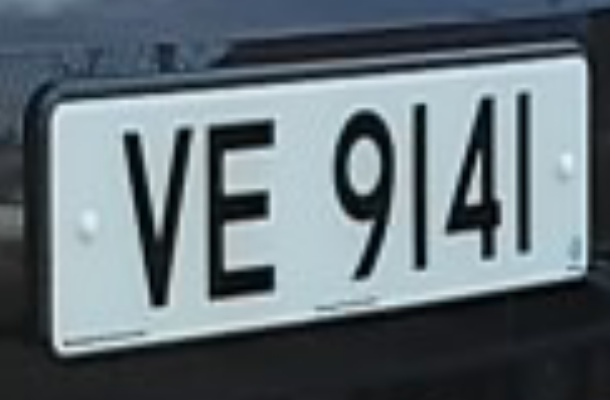1: (400, 86, 448, 307), (504, 70, 550, 277)
4: (439, 71, 509, 290)
9: (326, 88, 404, 309)
F: (195, 97, 284, 328)
V: (115, 108, 201, 335)
